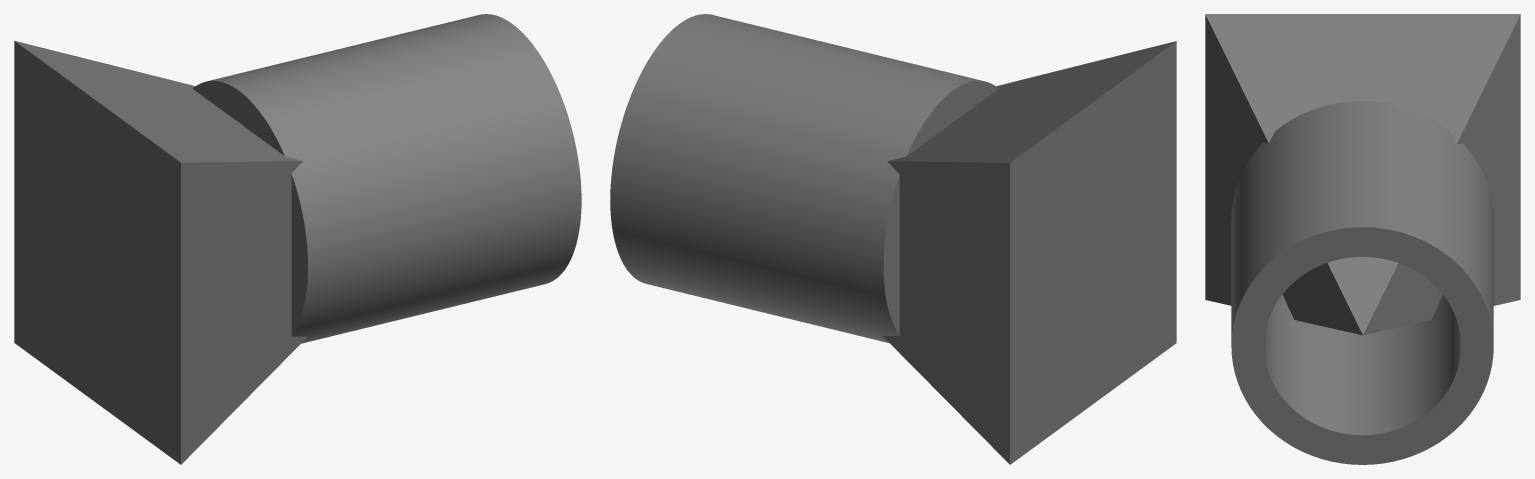
File: Tripod.gltf
The picture shows the model from 3 angles, left to right: view 1: azimuth 30°, elevation 25°; view 2: azimuth 150°, elevation 25°; view 3: azimuth 270°, elevation 25°; orthographic projection. The views are drawn at different scales.
Visible parts, largest first — view 1: mesh_id38, mesh_id36; view 2: mesh_id38, mesh_id36; view 3: mesh_id36, mesh_id38.
Part boxes in pixels (<box>): mesh_id38: <box>14,40,307,464</box>; mesh_id36: <box>193,14,581,343</box>; mesh_id38: <box>883,41,1176,464</box>; mesh_id36: <box>610,14,998,343</box>; mesh_id36: <box>1231,101,1493,464</box>; mesh_id38: <box>1205,14,1520,335</box>.
Bounding box in the file's own units: 0.1019 × 0.071 × 0.071.
Materials: 2 (2 with a texture image).
